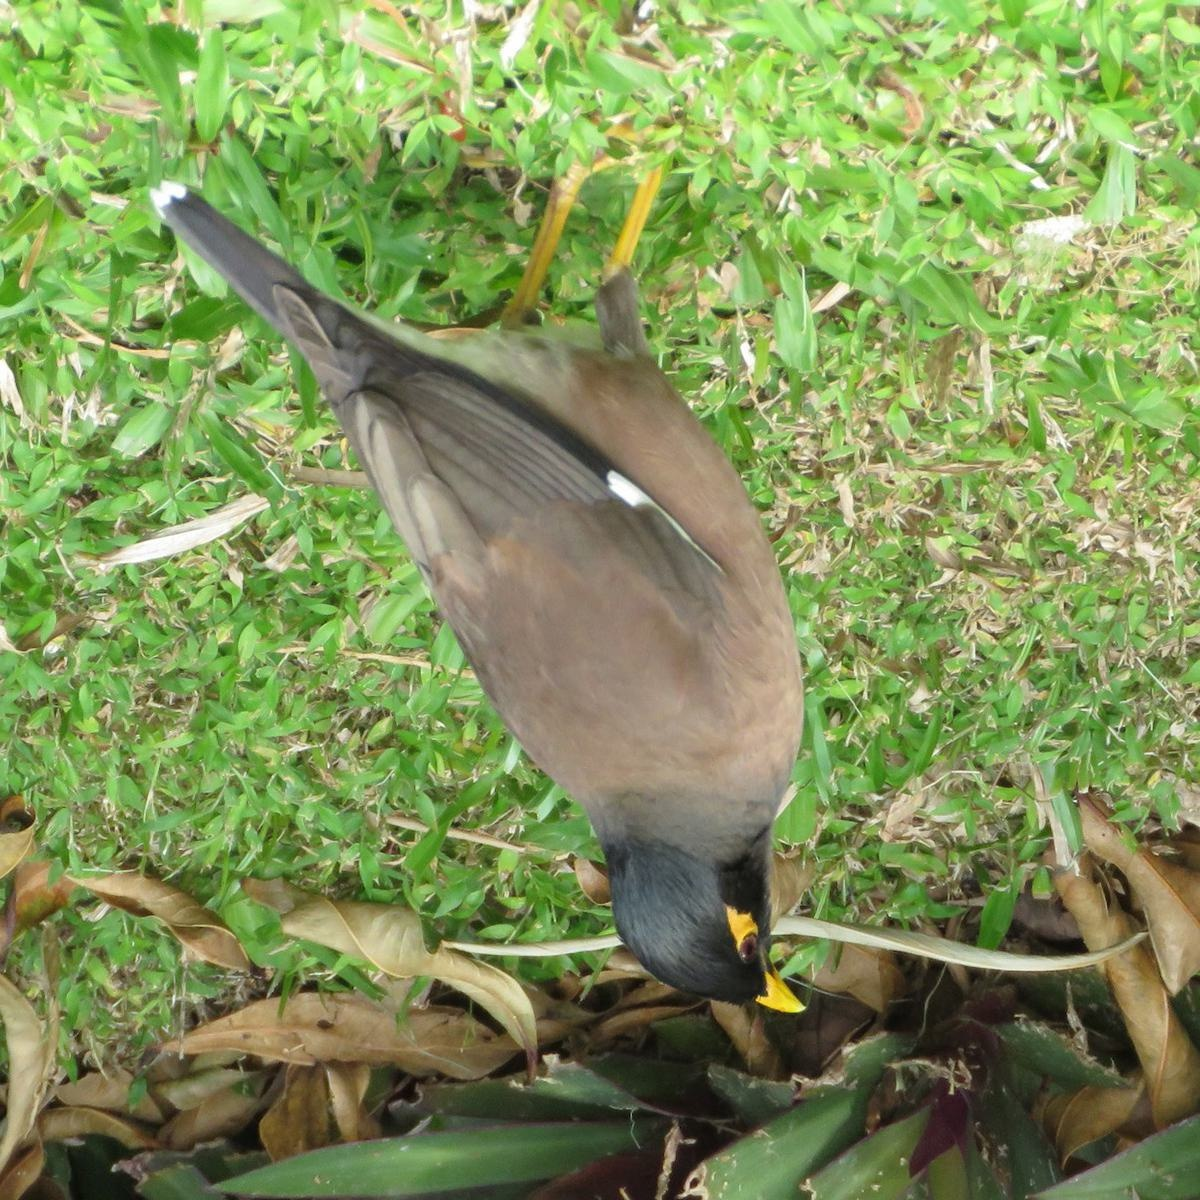myna: (222, 149, 858, 1033)
